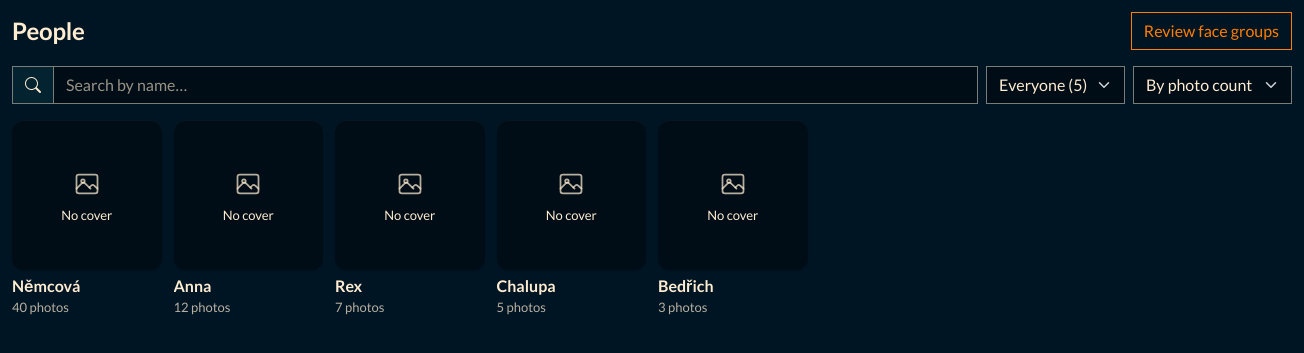
Test: PeoplePage › sorts alphabetically when asked
Expected: the link "No cover Anna 12 photos" is shown, [174,120,323,316]
Select "By name" in the dropdown named "Sort". click: (1212, 85)
box: [1133,66,1292,104]
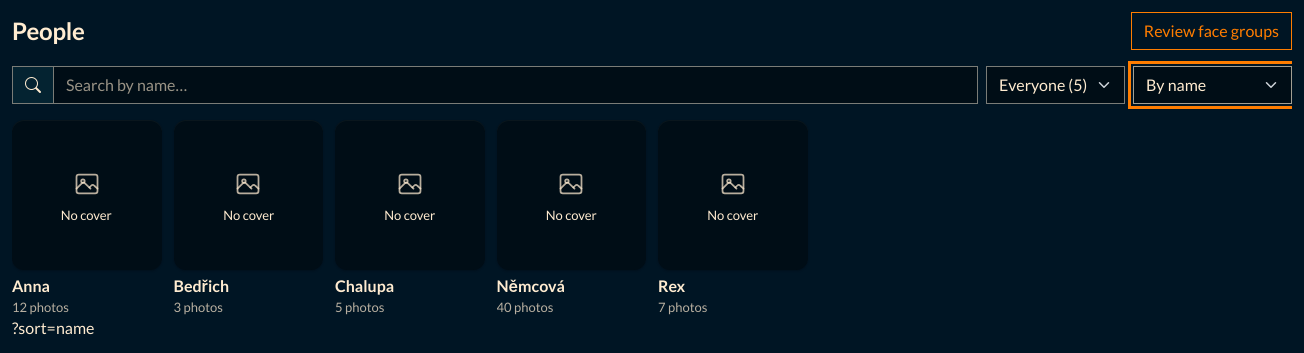
Result: the text with test id "search" shows "sort=name" at [12,318,94,337]
